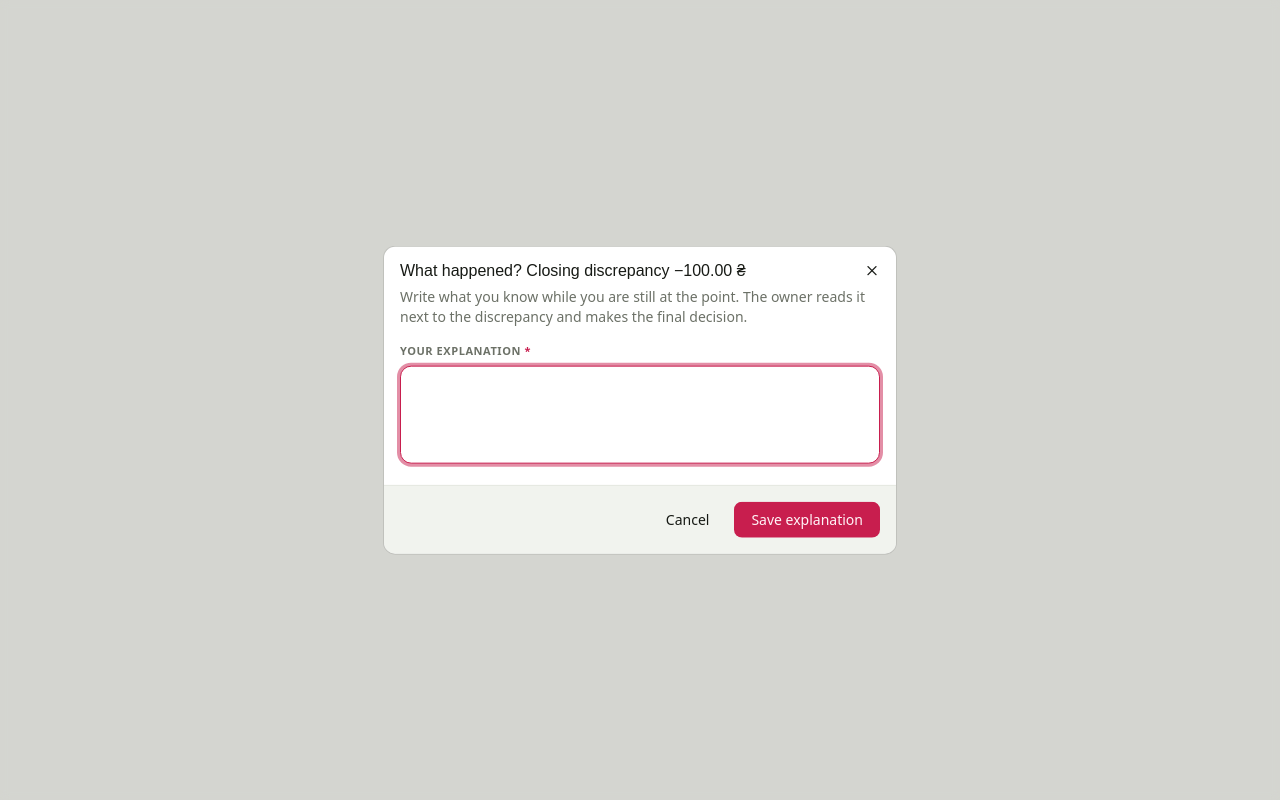
Test: OperatorNoteDialog › a count that no longer stands says so and stays open
In the text box labelled "Your explanation": (640, 414) [400, 365, 880, 463], type "причина"
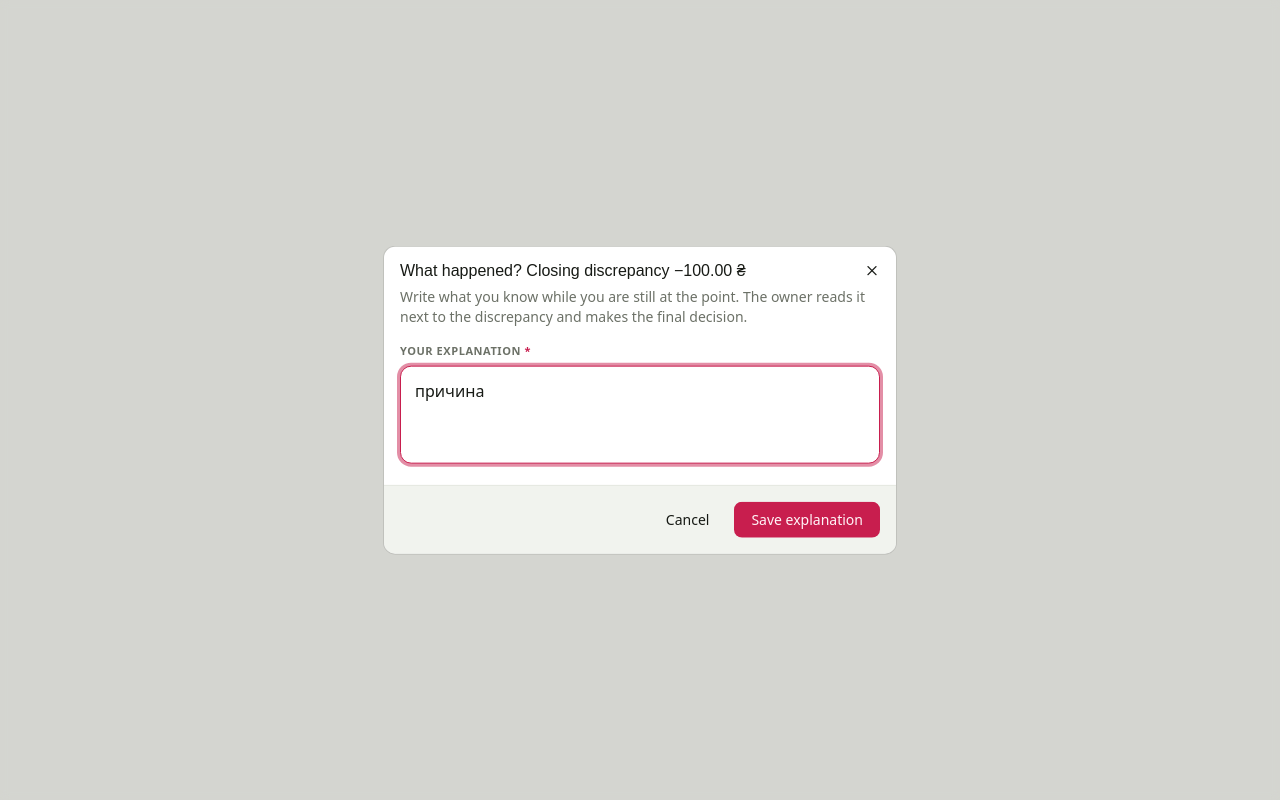
Click the button "Save explanation": (807, 519) [734, 501, 880, 537]
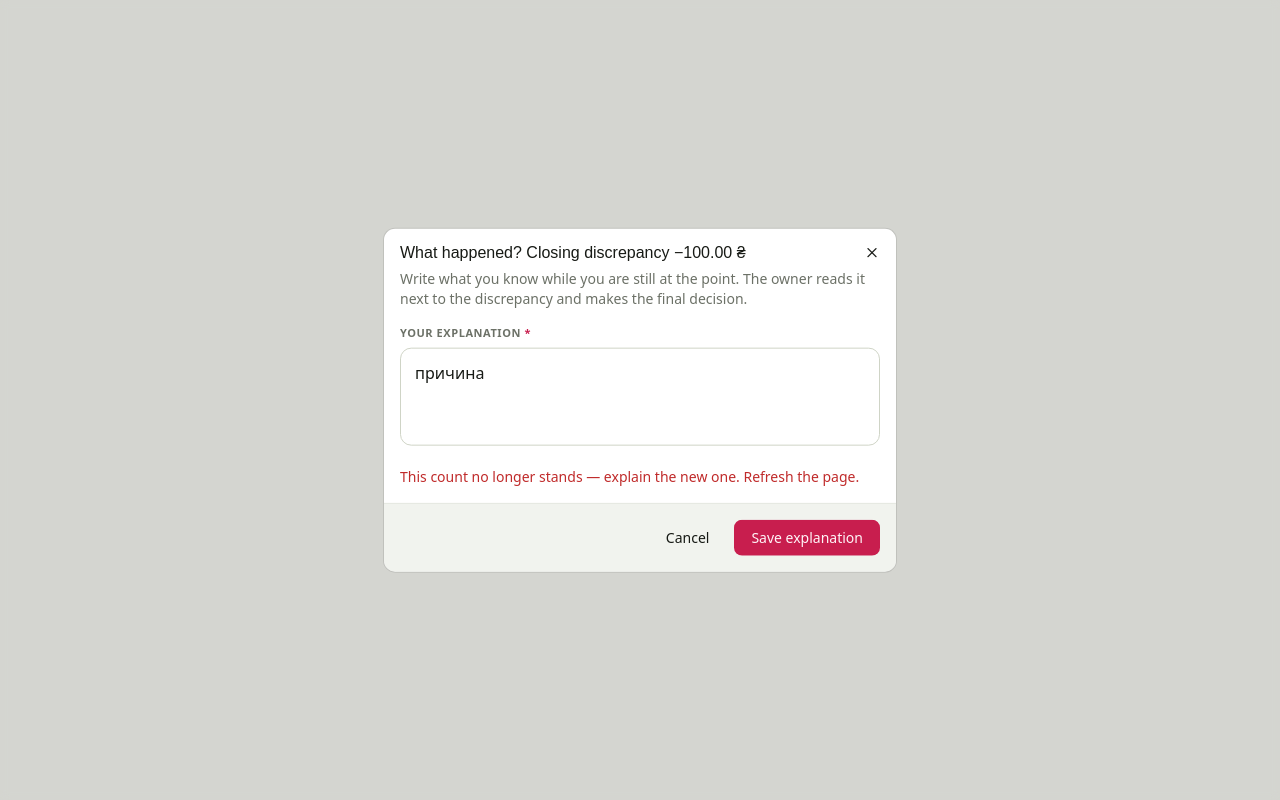
Check: the text "This count no longer stands — explain the new one. Refresh the page." is shown, box [400, 466, 880, 486]
